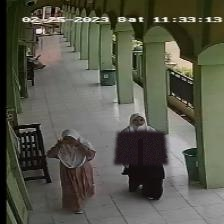Cadar_Niqab: (114, 113, 167, 164)
